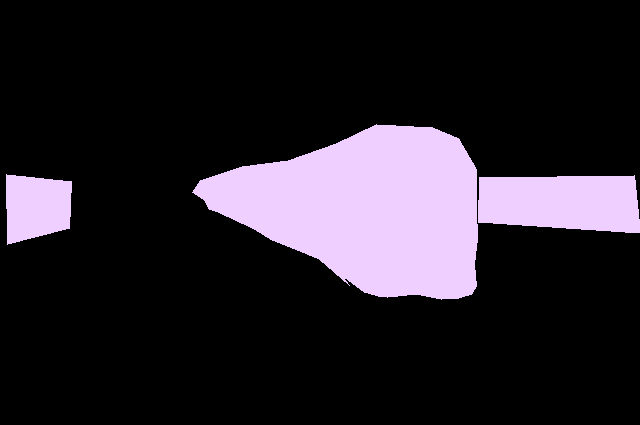Train: (192, 124, 478, 300), (478, 175, 640, 233), (6, 174, 71, 244)
